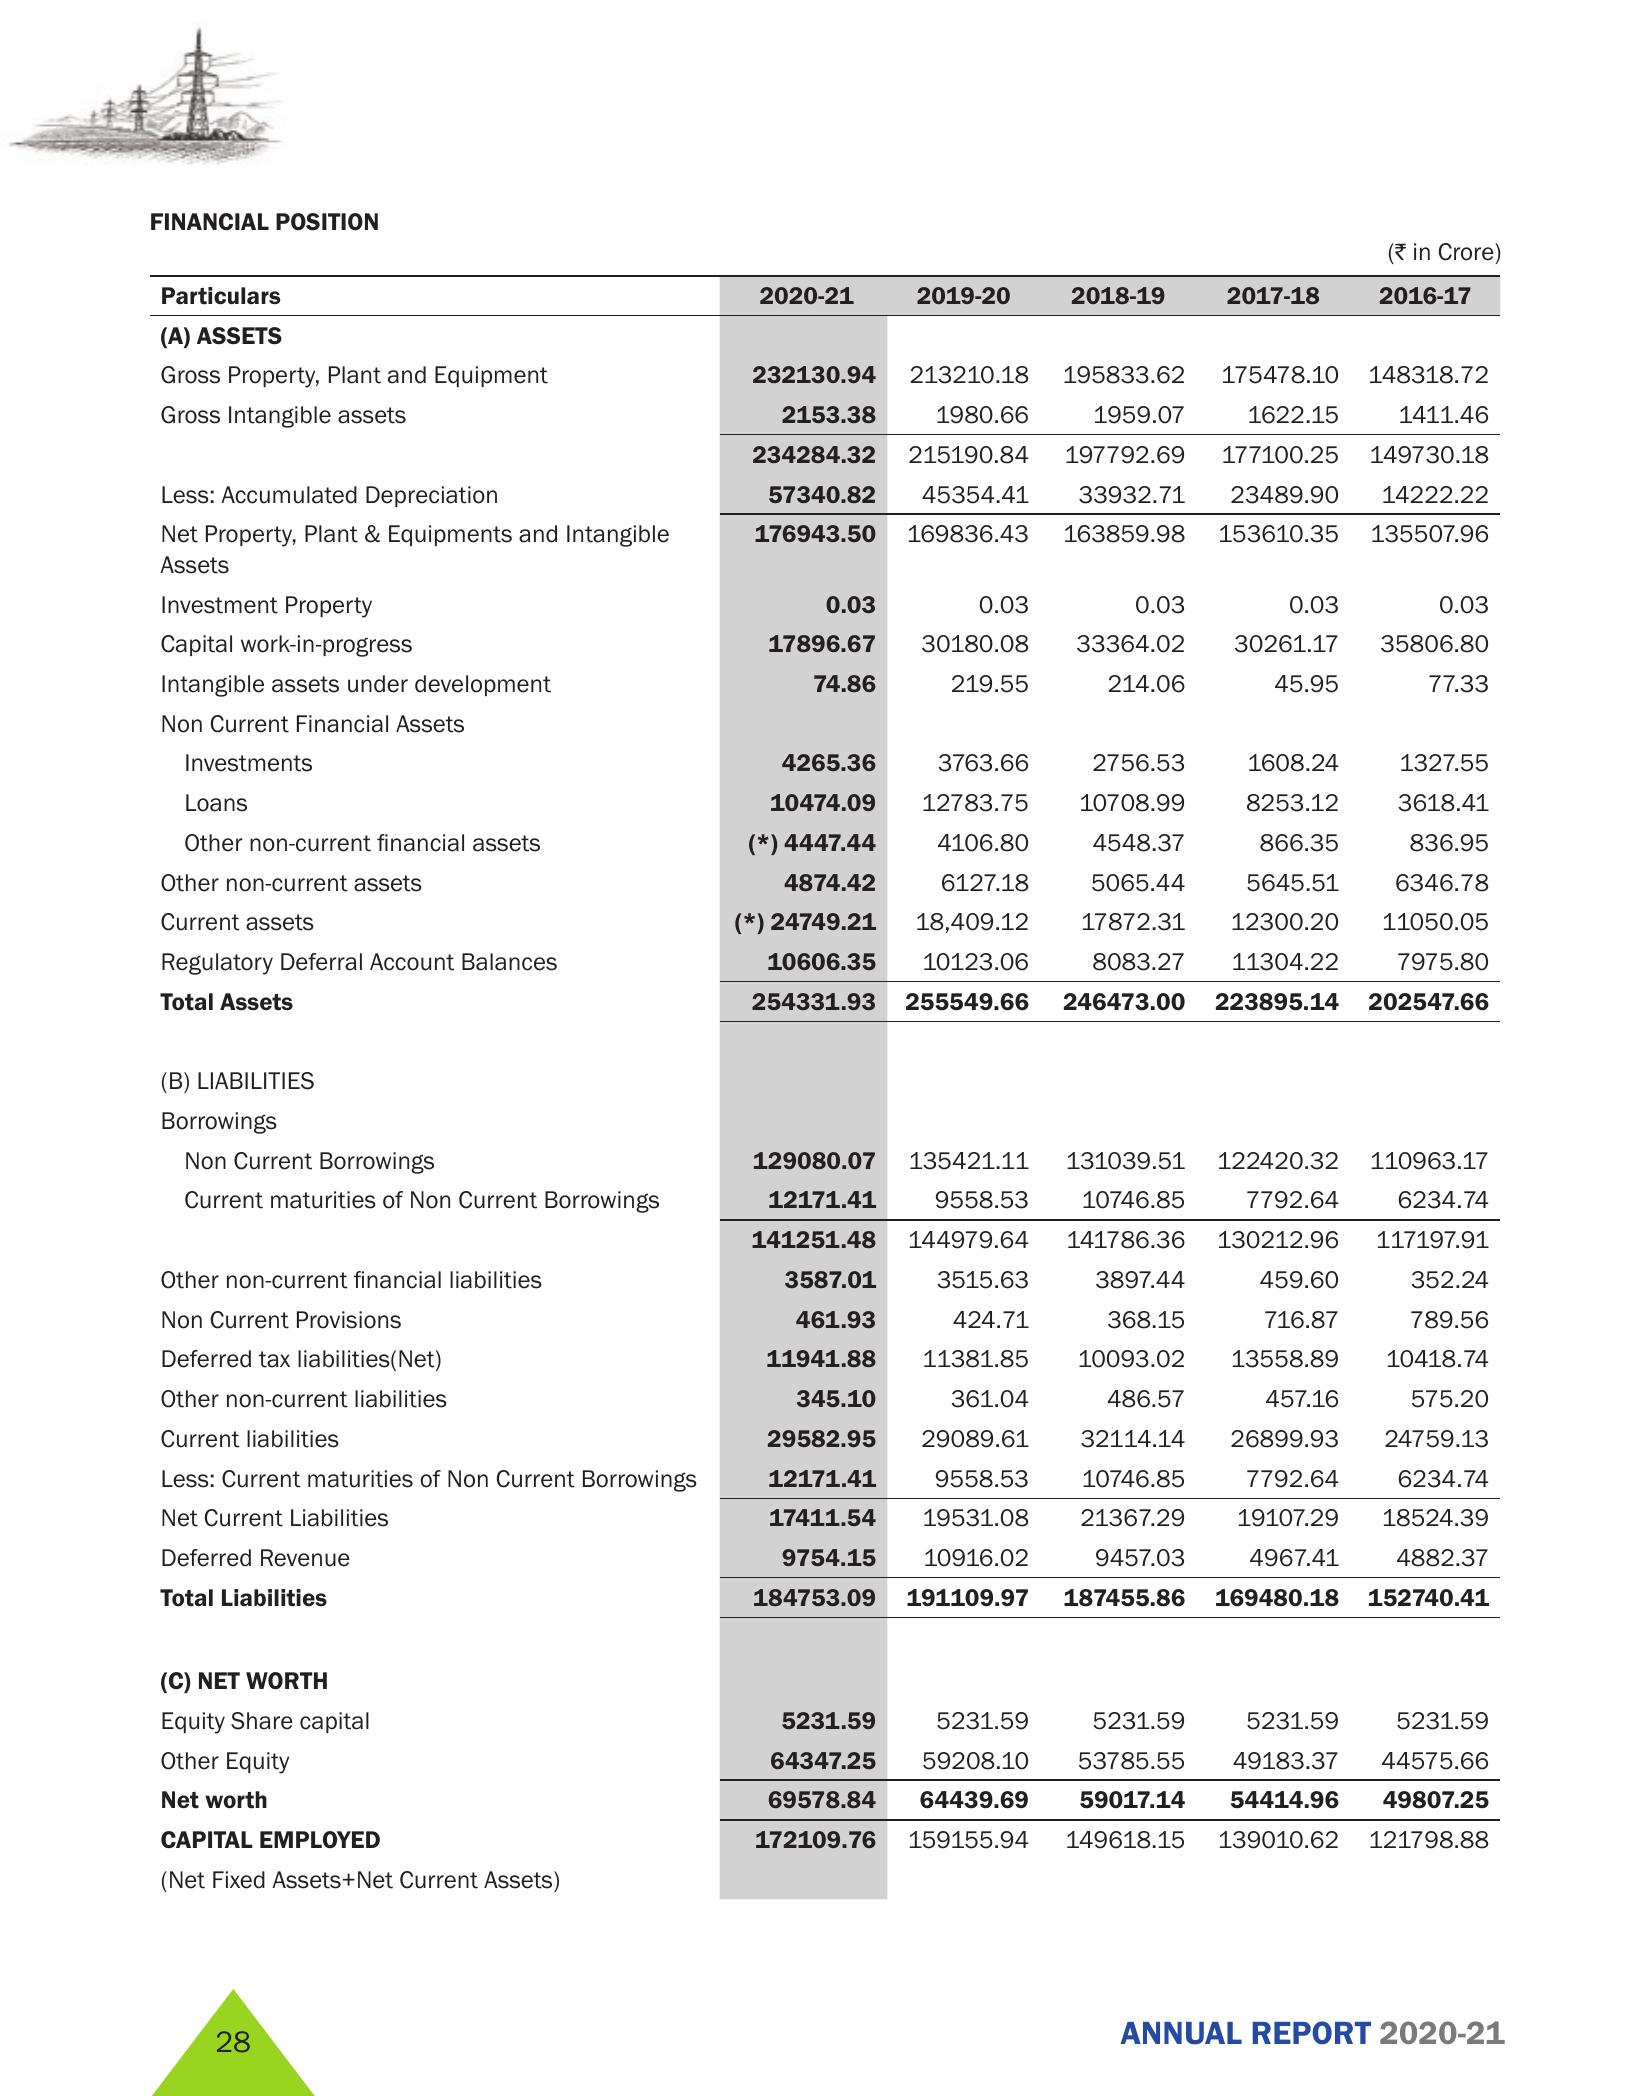Footer: (0, 1979, 1650, 2096)
Header: (0, 0, 1650, 184)
Table: (73, 233, 1560, 1924)
